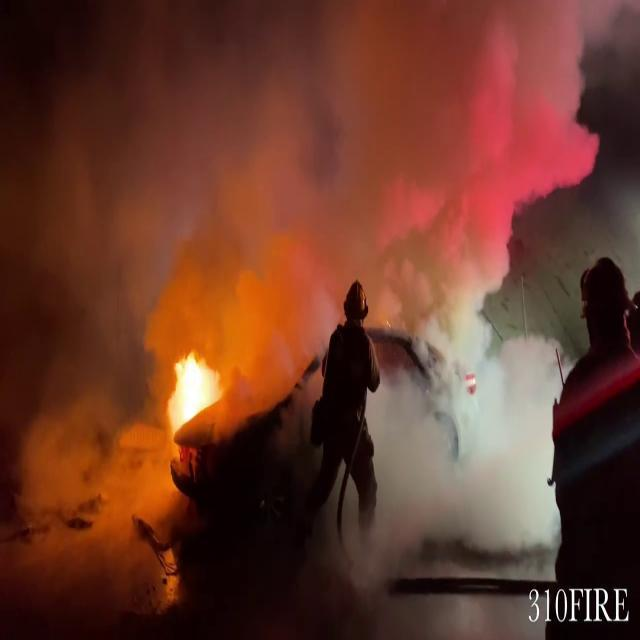Fire: (150, 343, 224, 445)
Smoke: (2, 0, 594, 402)
